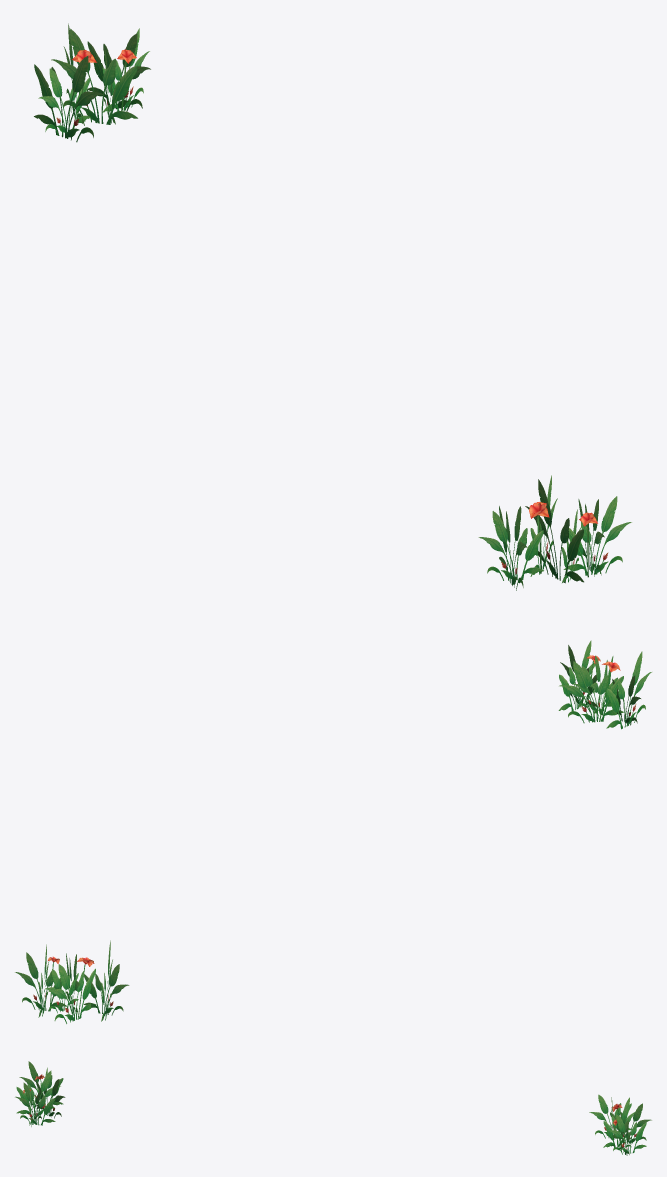
The model's file is area_07_14.fbx.
The picture shows the model from 3 angles, top to bottom: view 1: azimuth 30°, elevation 25°; view 2: azimuth 150°, elevation 25°; view 3: azimuth 270°, elevation 25°; orthographic projection. The views are drawn at different scales.
Parts seen in each view (by area): view 1: area_07_14; view 2: area_07_14; view 3: area_07_14.
Boxes of the visible parts, x1=… form: area_07_14: x1=34, y1=23, x2=631, y2=590; area_07_14: x1=15, y1=640, x2=651, y2=1023; area_07_14: x1=15, y1=1061, x2=651, y2=1155.
Bounding box in the file's own units: 4.48 × 1.55 × 19.49.
